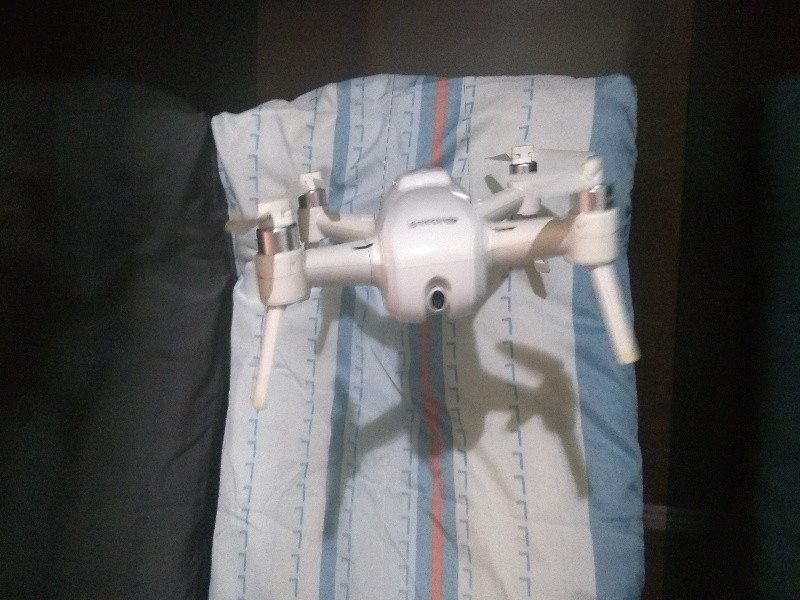drone: (222, 139, 632, 401)
